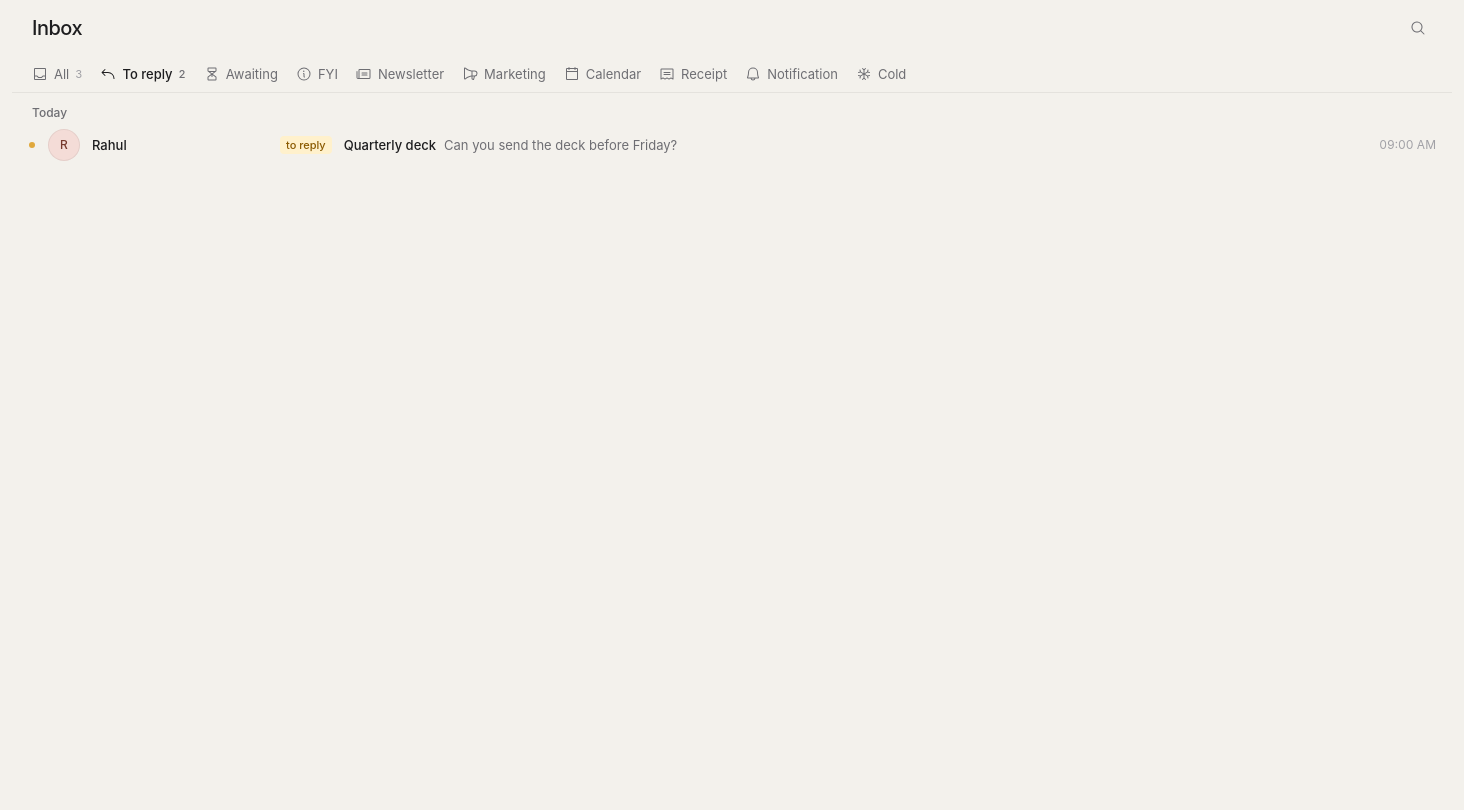
Test case: InboxPage › opens an email in the main column and comes back to the same tab
Expected: the text "Rahul" is shown, [92,136,127,154]
Click the text "Quarterly deck": [390, 145] box [344,137,436,153]
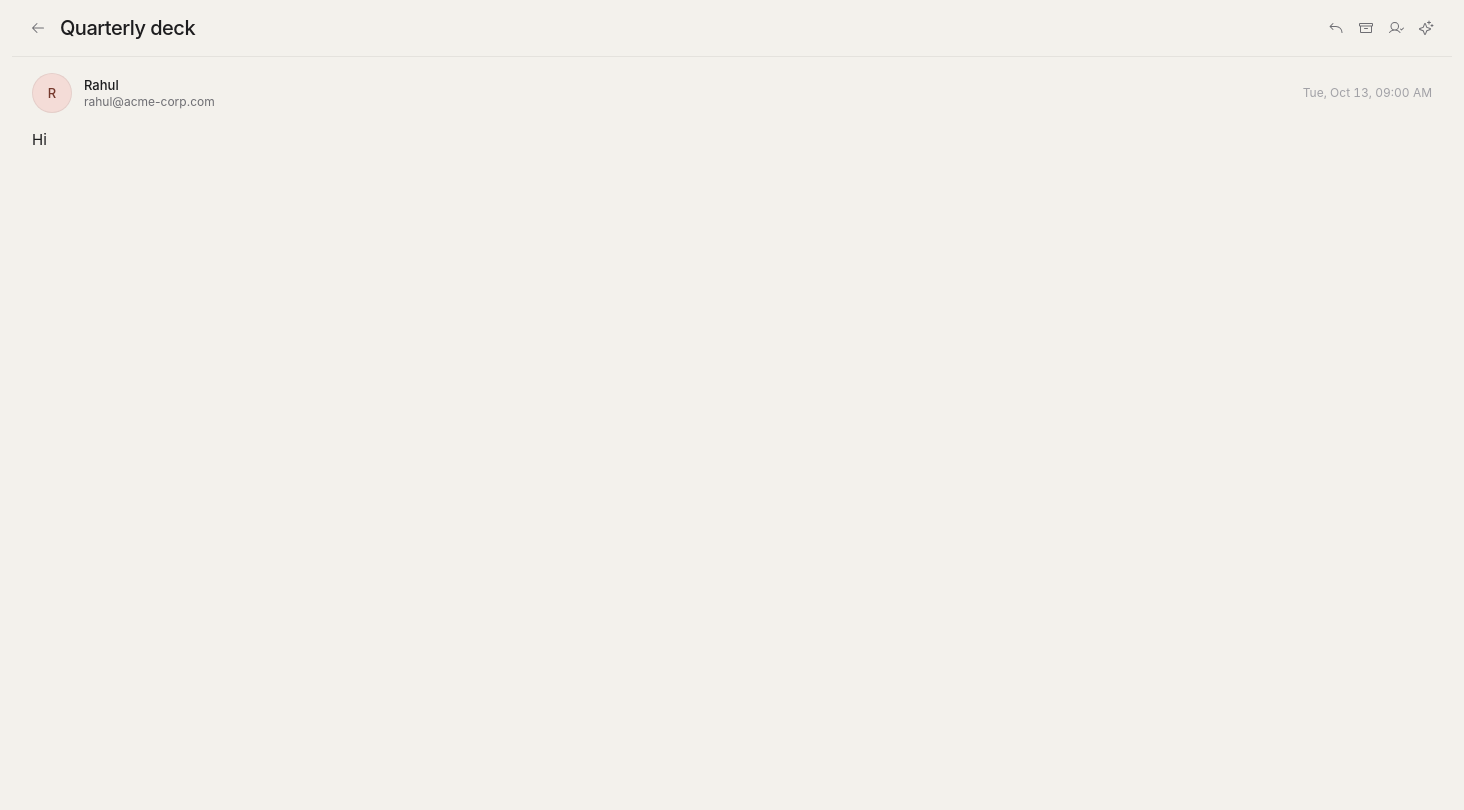
Result: the heading reads "Quarterly deck" at [60,16,195,40]
Result: the element that starts with "Quarterly deck" is shown
Click the button named "Back to inbox": [38, 28] box [24,14,52,42]
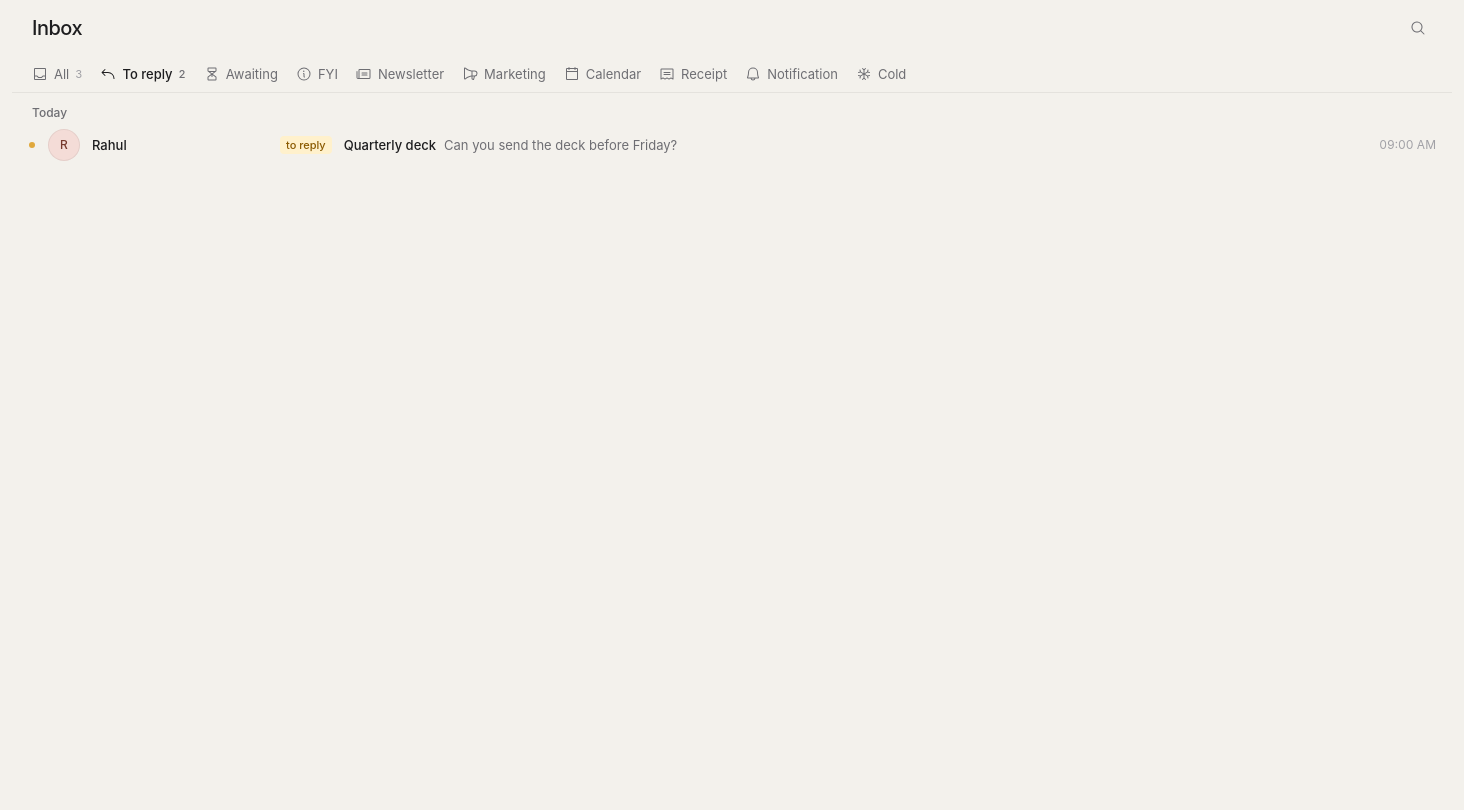
Result: the element named "Inbox tabs" is shown at [24,56,914,92]
Result: the tab "To reply 2" is shown at [92,56,194,92]
